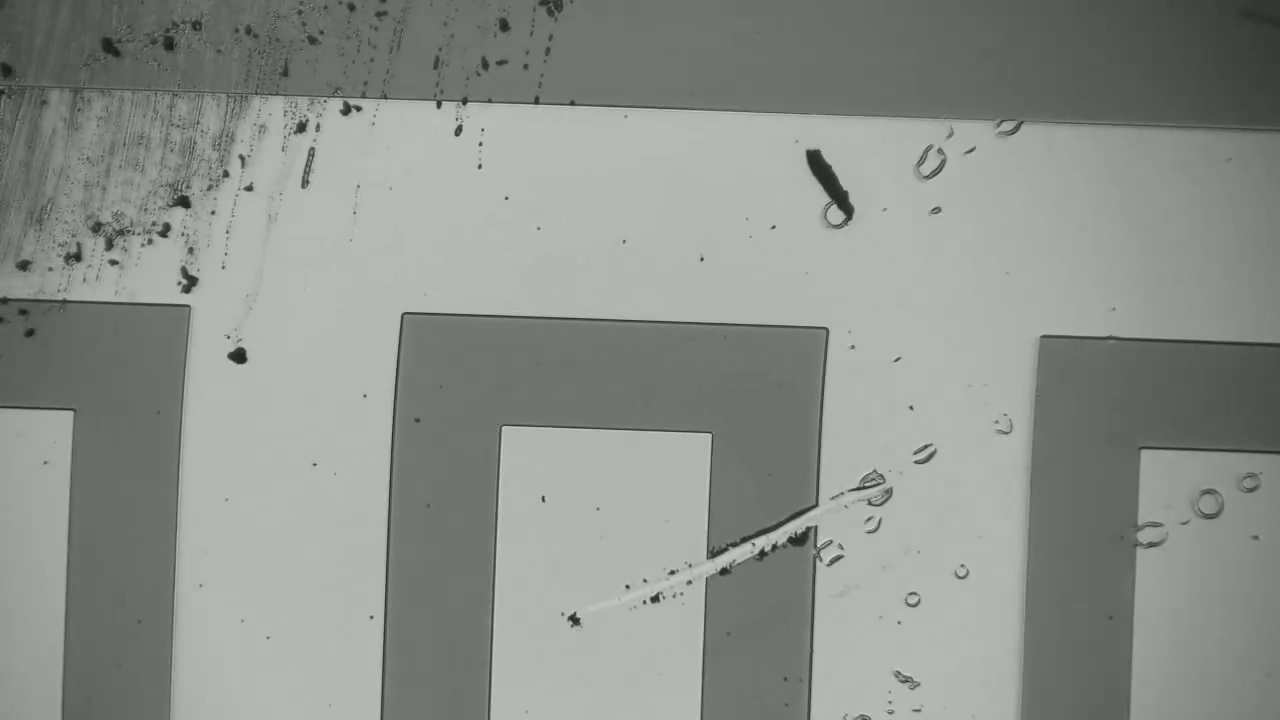Short_circuit: (652, 472, 846, 606)
